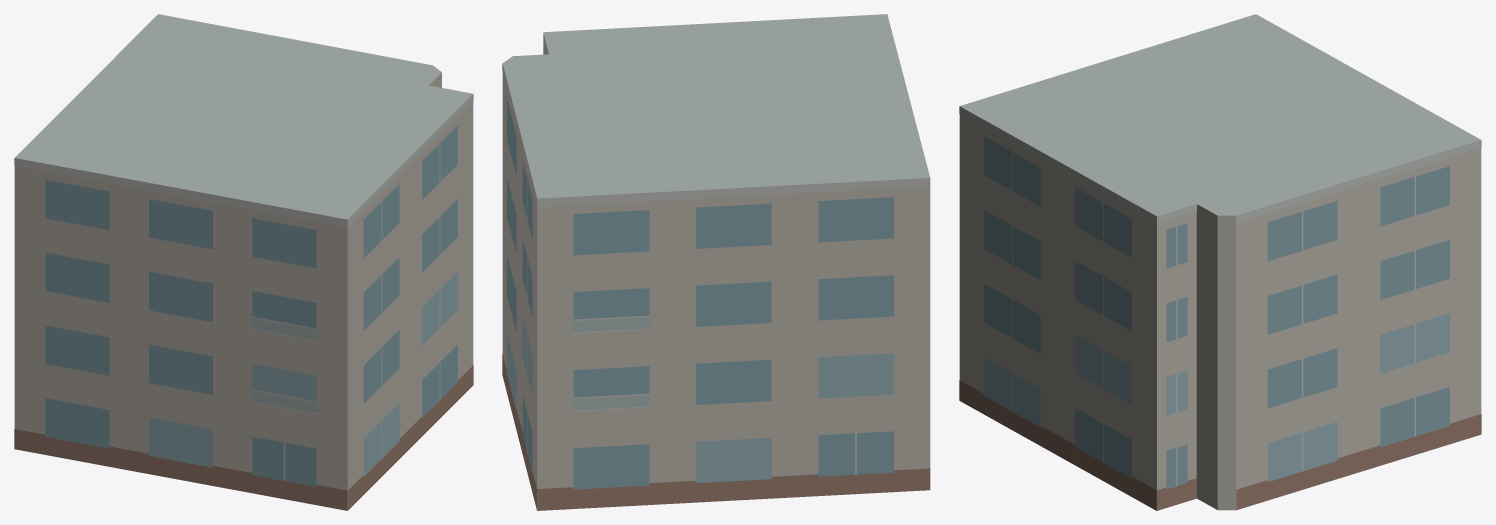
Rendered from survey-upis-32666543.glb.
3 renders of one model, left to right at view 1: azimuth 30°, elevation 25°; view 2: azimuth 150°, elevation 25°; view 3: azimuth 270°, elevation 25°, orthographic. The views are drawn at different scales.
Parts seen in each view (by area): view 1: survey-upis-32666543.tmp; view 2: survey-upis-32666543.tmp; view 3: survey-upis-32666543.tmp.
Boxes of the visible parts, x1,y1,x2,y2 form: survey-upis-32666543.tmp: [14, 14, 473, 510]; survey-upis-32666543.tmp: [502, 14, 930, 510]; survey-upis-32666543.tmp: [959, 14, 1481, 510].
Bounding box in the file's own units: 13.41 × 9.1 × 14.62.
